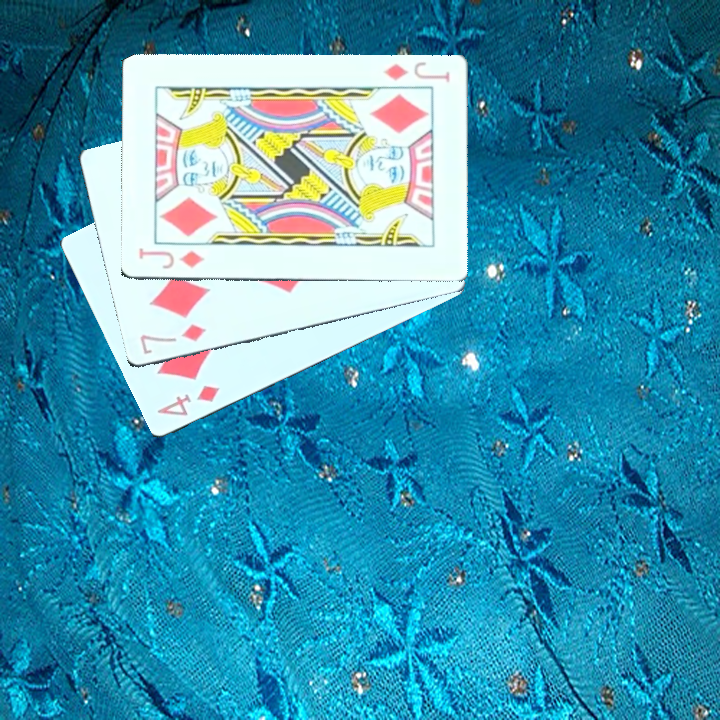4d: (153, 381, 223, 419)
7d: (135, 319, 209, 357)
Jd: (373, 59, 452, 98), (135, 244, 207, 271)
